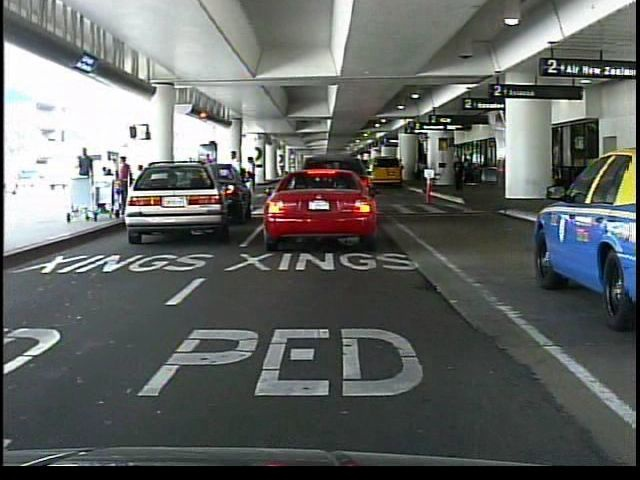person: (227, 146, 245, 221), (76, 146, 97, 210), (203, 151, 219, 213), (299, 152, 317, 204), (453, 154, 467, 192)
